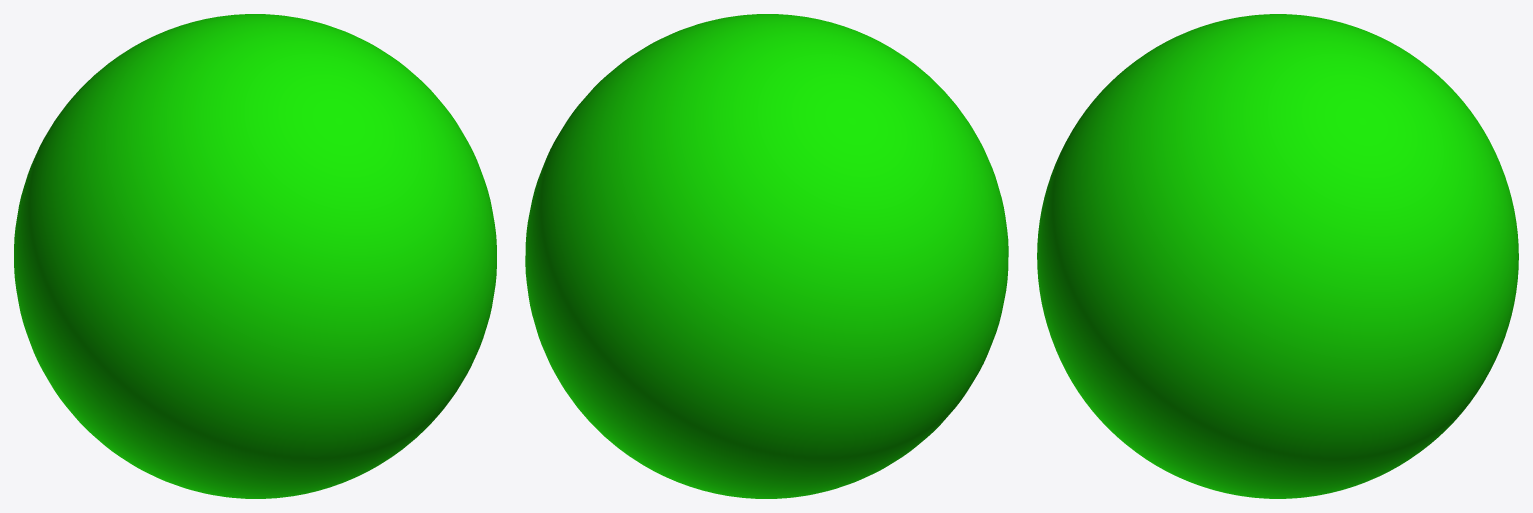
3 views of the same model, side by side, from view 1: azimuth 30°, elevation 25°; view 2: azimuth 150°, elevation 25°; view 3: azimuth 270°, elevation 25° (orthographic).
Visible parts, largest first — view 1: Mesh.012; view 2: Mesh.012; view 3: Mesh.012.
Boxes of the visible parts, <box> form: Mesh.012: <box>14,14,496,498</box>; Mesh.012: <box>525,14,1008,498</box>; Mesh.012: <box>1037,14,1518,498</box>.
Bounding box in the file's own units: 281 × 282 × 281.
